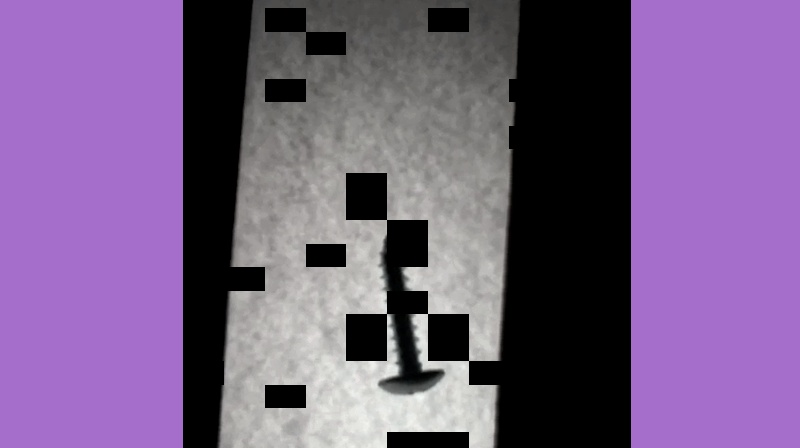S003: (374, 232, 447, 397)
